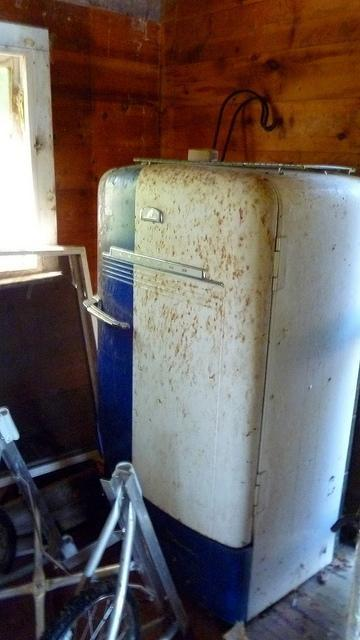bicycle: (44, 580, 144, 640)
